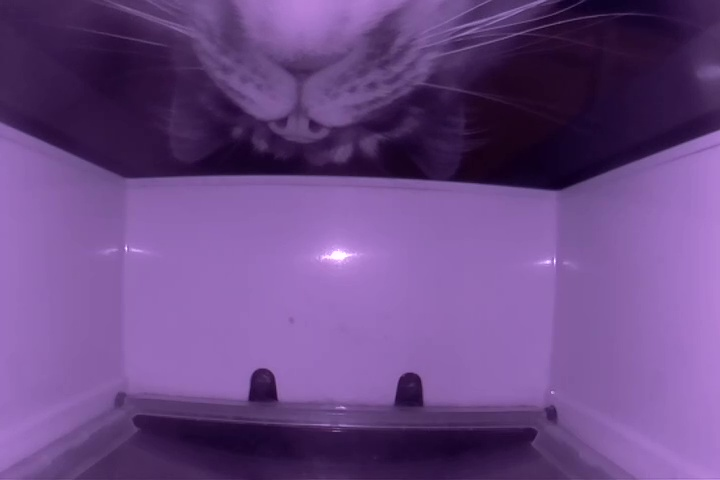Snout: (235, 15, 391, 143)
